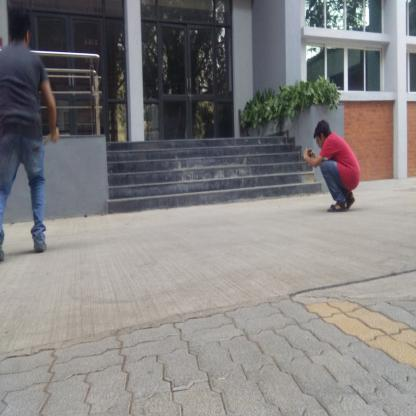stairs: (114, 139, 291, 209)
